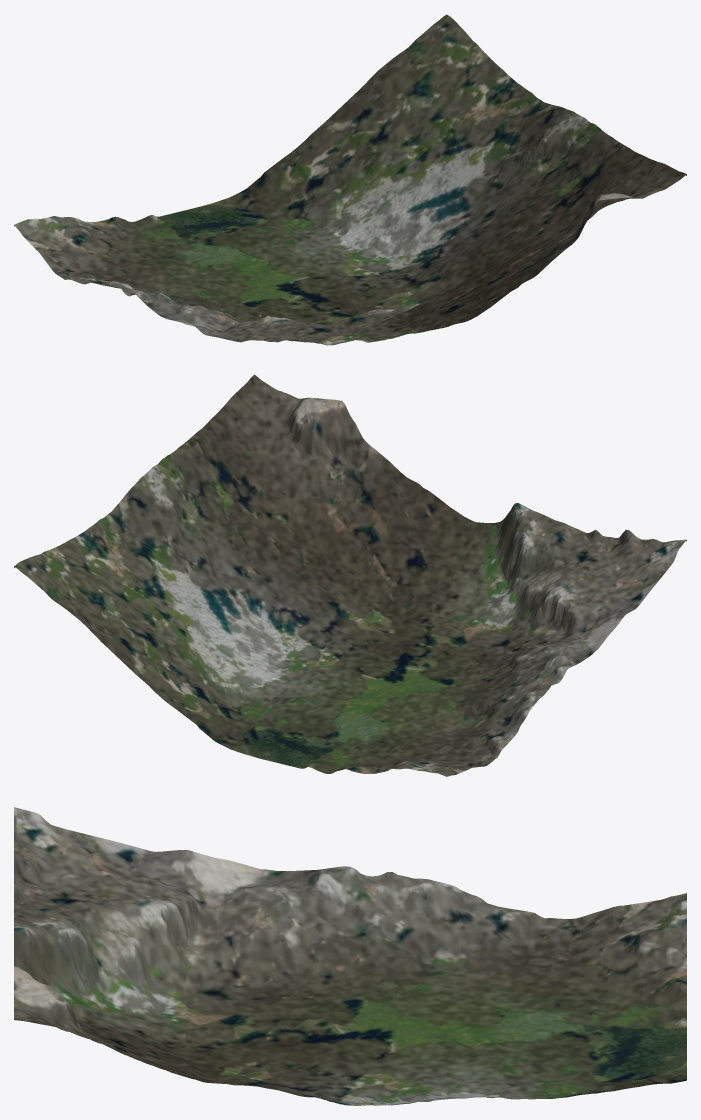
3 renders of one model, top to bottom at view 1: azimuth 30°, elevation 25°; view 2: azimuth 150°, elevation 25°; view 3: azimuth 270°, elevation 25°, orthographic. The views are drawn at different scales.
Bounding box in the file's own units: 250 × 82.99 × 241.
1 material, 1 textured.
